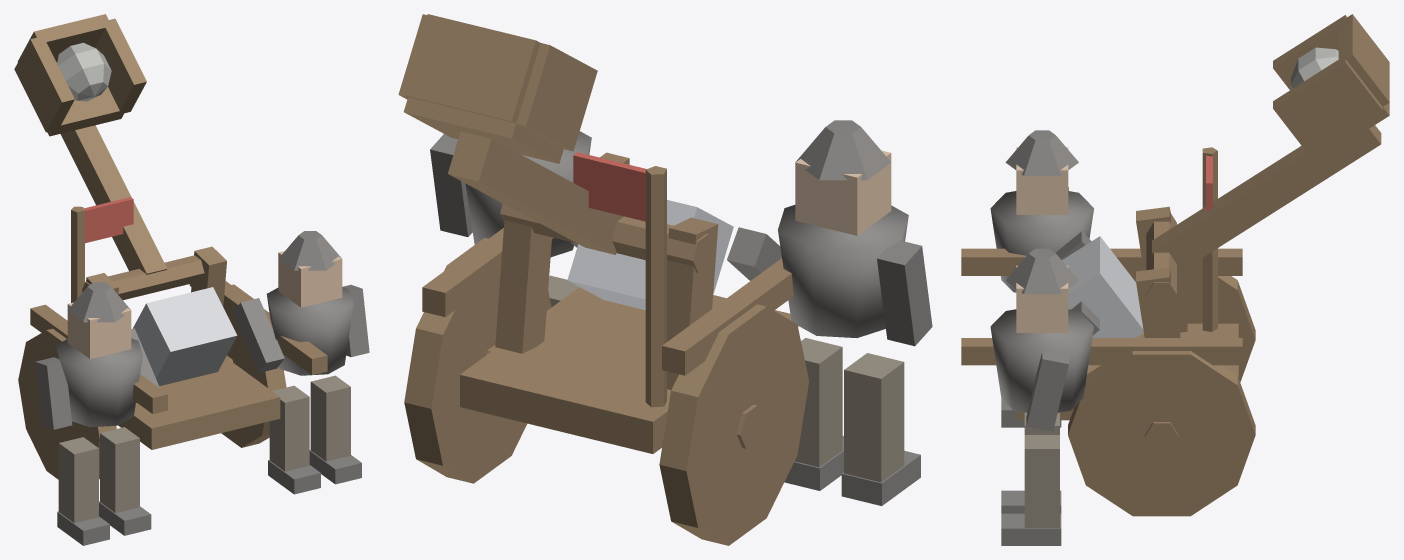
Rendered from troop-catapult.glb.
3 renders of one model, left to right at view 1: azimuth 30°, elevation 25°; view 2: azimuth 150°, elevation 25°; view 3: azimuth 270°, elevation 25°, orthographic. The views are drawn at different scales.
Parts seen in each view (by area): view 1: body, arm_weight, crew0_torso, arm, crew1_torso, wheel_l, arm_basket_l, crew0_leg_l, crew1_leg_r, crew0_leg_r, crew1_leg_l, arm_basket_r (+21 smaller); view 2: wheel_l, body, wheel_r, crew0_torso, arm_basket_end, arm, crew0_leg_l, frame_r, arm_basket_l, crew0_head, flag_pole, arm_weight (+15 smaller); view 3: wheel_r, arm, crew1_torso, arm_basket_r, arm_weight, crew0_torso, rail_r, crew1_leg_r, rail_l, wheel_l, arm_basket_end, crew1_arm_out (+15 smaller).
Boxes of the visible parts, x1,y1,x2,y2 form: body: [118, 357, 280, 449]; arm_weight: [133, 287, 237, 386]; crew0_torso: [56, 338, 142, 427]; arm: [60, 125, 167, 274]; crew1_torso: [266, 287, 353, 375]; wheel_l: [18, 328, 116, 479]; arm_basket_l: [14, 36, 74, 132]; crew0_leg_l: [58, 437, 98, 523]; crew1_leg_r: [310, 375, 350, 461]; crew0_leg_r: [100, 427, 139, 512]; crew1_leg_l: [269, 385, 309, 471]; arm_basket_r: [95, 18, 146, 113]; wheel_l: [659, 304, 809, 545]; body: [460, 287, 798, 453]; wheel_r: [404, 237, 551, 483]; crew0_torso: [778, 205, 908, 337]; arm_basket_end: [403, 14, 540, 123]; arm: [448, 131, 623, 254]; crew0_leg_l: [844, 353, 904, 482]; frame_r: [495, 220, 551, 353]; arm_basket_l: [516, 43, 597, 151]; crew0_head: [795, 150, 891, 235]; flag_pole: [645, 166, 666, 407]; arm_weight: [567, 200, 733, 309]; wheel_r: [1068, 351, 1255, 516]; arm: [1152, 125, 1381, 273]; crew1_torso: [990, 309, 1093, 412]; arm_basket_r: [1273, 56, 1382, 156]; arm_weight: [1062, 236, 1143, 366]; crew0_torso: [990, 191, 1093, 292]; rail_r: [961, 338, 1242, 365]; crew1_leg_r: [1024, 435, 1059, 527]; rail_l: [961, 248, 1242, 275]; wheel_l: [1131, 276, 1255, 382]; arm_basket_end: [1338, 14, 1389, 106]; crew1_arm_out: [1026, 351, 1068, 431].
Size of the model in its own units: 0.2456 by 0.2804 by 0.2511.
